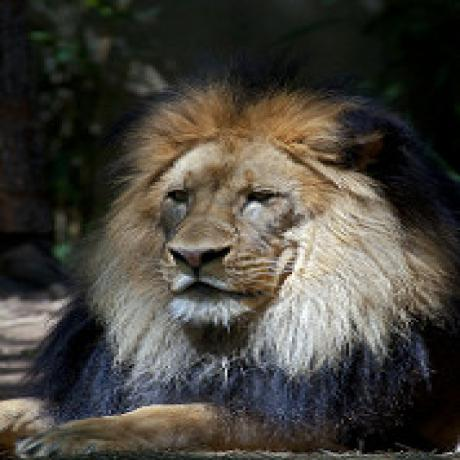Lion: (11, 74, 459, 460)
